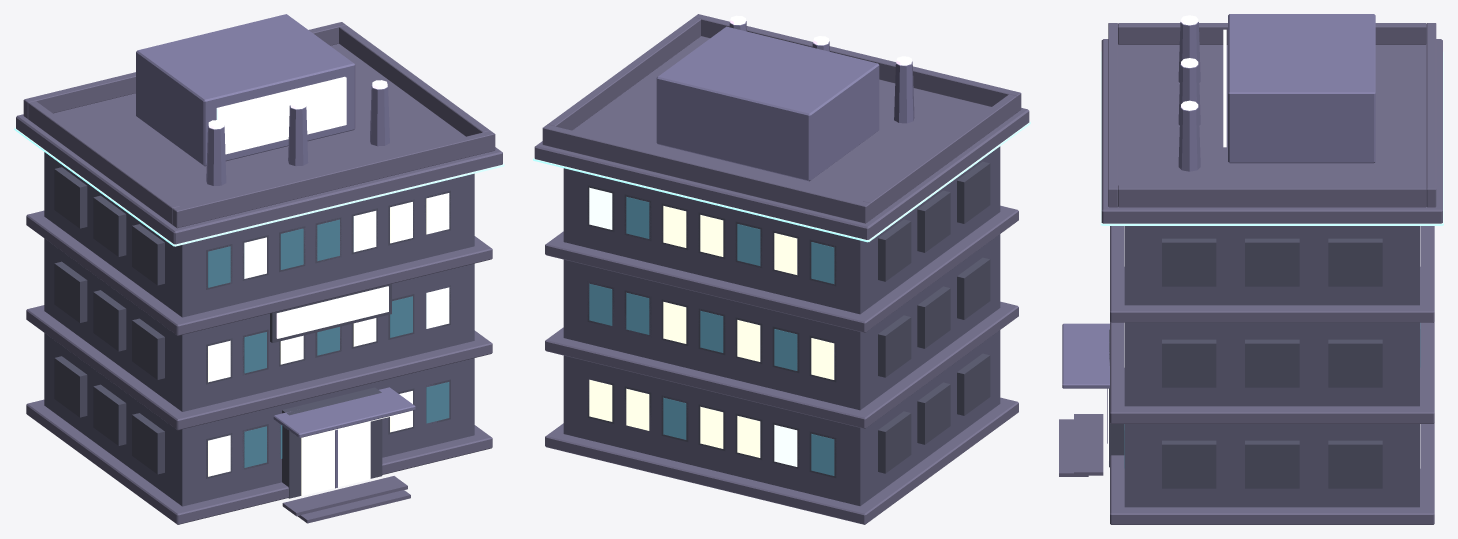
The model's file is lab_block_a.glb.
3 renders of one model, left to right at view 1: azimuth 30°, elevation 25°; view 2: azimuth 150°, elevation 25°; view 3: azimuth 270°, elevation 25°, orthographic. The views are drawn at different scales.
Visible parts, largest first — view 1: lab_block_a_Concrete@academic, lab_block_a_Graphite@academic, lab_block_a_Steel@academic, lab_block_a_DarkAlloy@academic, lab_block_a_WarmGlass, lab_block_a_CoolGlass, lab_block_a_BlackGlass, lab_block_a_Violet, lab_block_a_Cyan; view 2: lab_block_a_Concrete@academic, lab_block_a_Graphite@academic, lab_block_a_Steel@academic, lab_block_a_DarkAlloy@academic, lab_block_a_WarmGlass, lab_block_a_BlackGlass, lab_block_a_CoolGlass, lab_block_a_Cyan; view 3: lab_block_a_Concrete@academic, lab_block_a_Graphite@academic, lab_block_a_Steel@academic, lab_block_a_DarkAlloy@academic, lab_block_a_Cyan, lab_block_a_CoolGlass, lab_block_a_Violet.
Boxes of the visible parts, x1,y1,x2,y2 form: lab_block_a_Concrete@academic: [16, 22, 502, 524]; lab_block_a_Graphite@academic: [44, 152, 474, 506]; lab_block_a_Steel@academic: [136, 14, 415, 488]; lab_block_a_DarkAlloy@academic: [54, 167, 450, 498]; lab_block_a_WarmGlass: [208, 193, 449, 495]; lab_block_a_CoolGlass: [216, 76, 449, 328]; lab_block_a_BlackGlass: [208, 219, 449, 467]; lab_block_a_Violet: [208, 80, 411, 438]; lab_block_a_Cyan: [14, 127, 504, 246]; lab_block_a_Concrete@academic: [534, 14, 1029, 524]; lab_block_a_Graphite@academic: [563, 146, 1000, 505]; lab_block_a_Steel@academic: [656, 21, 914, 181]; lab_block_a_DarkAlloy@academic: [587, 161, 990, 478]; lab_block_a_WarmGlass: [589, 206, 834, 457]; lab_block_a_BlackGlass: [589, 197, 834, 475]; lab_block_a_CoolGlass: [589, 187, 797, 466]; lab_block_a_Cyan: [533, 121, 1030, 242]; lab_block_a_Concrete@academic: [1059, 23, 1442, 524]; lab_block_a_Graphite@academic: [1124, 226, 1419, 507]; lab_block_a_Steel@academic: [1062, 14, 1375, 443]; lab_block_a_DarkAlloy@academic: [1109, 238, 1382, 488]; lab_block_a_Cyan: [1100, 51, 1443, 225]; lab_block_a_CoolGlass: [1124, 29, 1420, 367]; lab_block_a_Violet: [1181, 15, 1198, 110].
Size of the model in its own units: 12.46 by 13.35 by 11.73.
